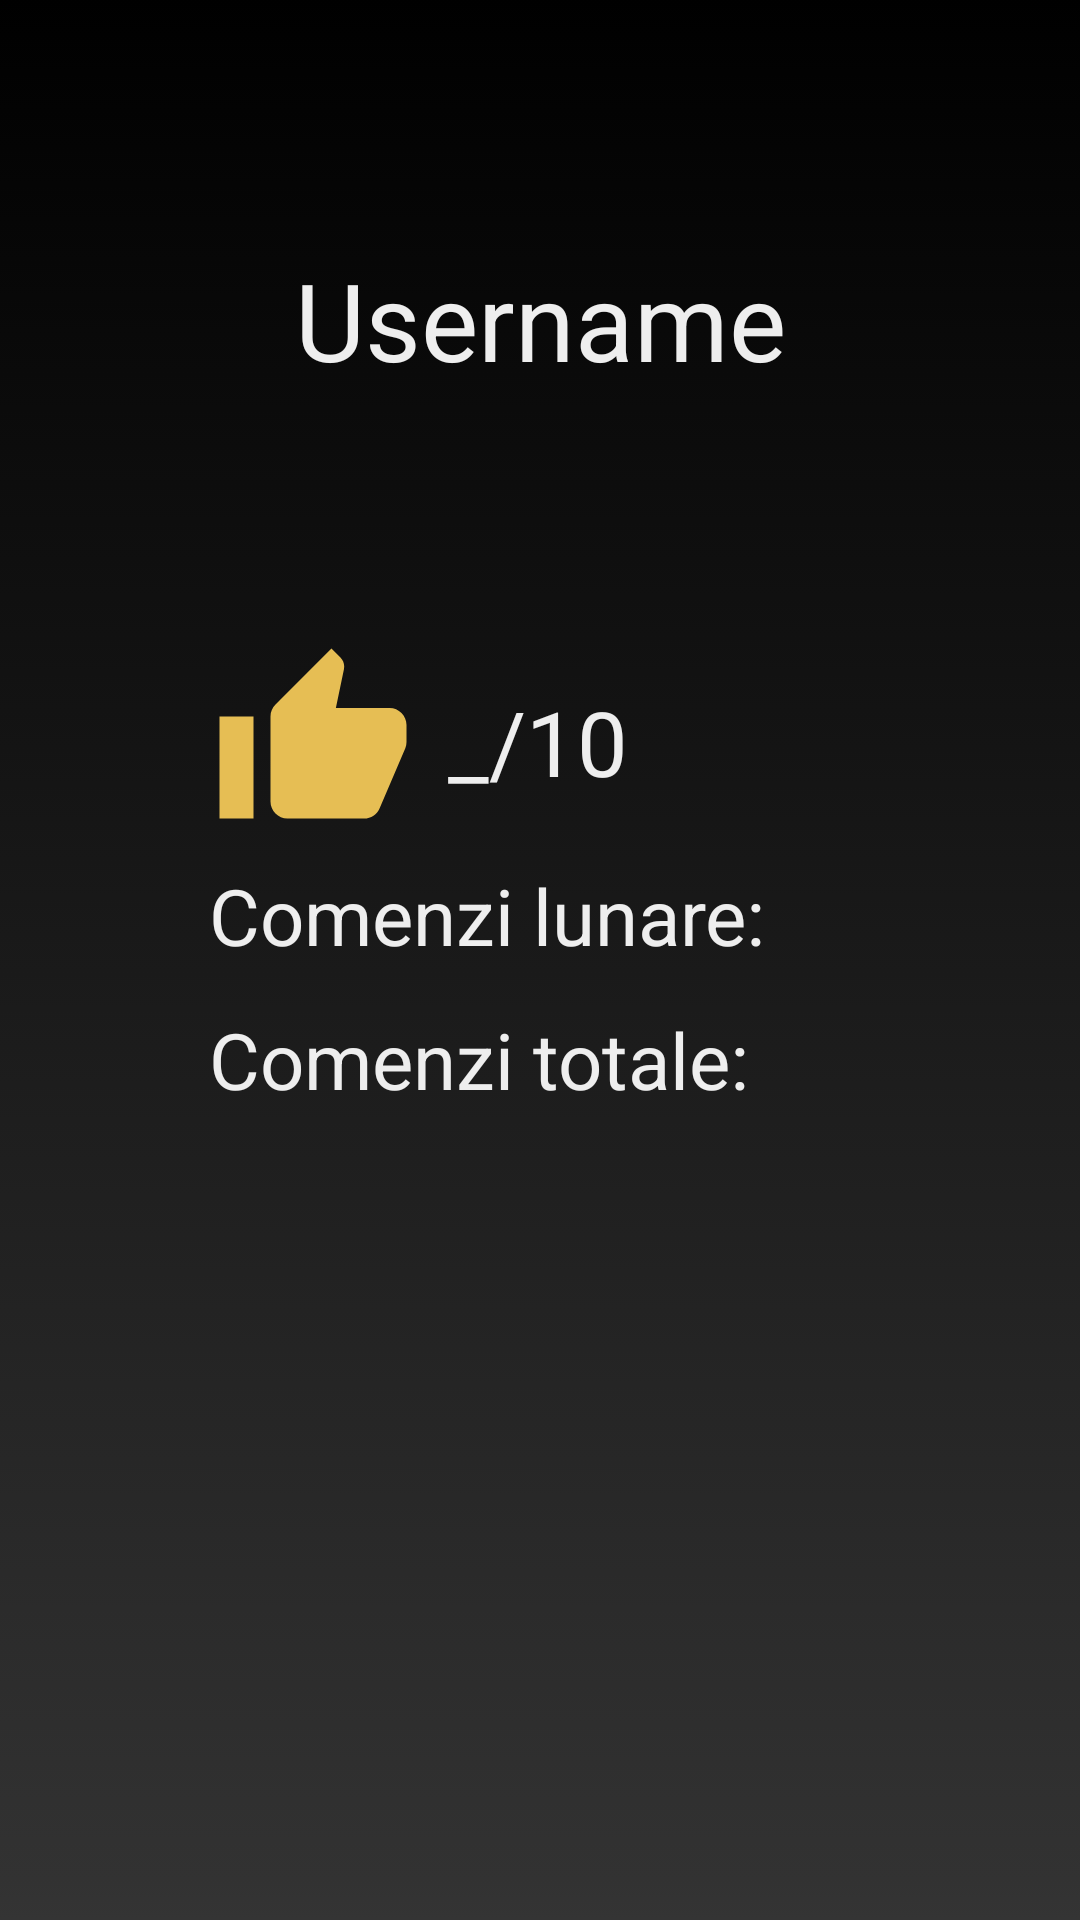

Named icons in this screenshot (1080px x 1920px) and their centers, (x,y):
thumb up: (313,733)
